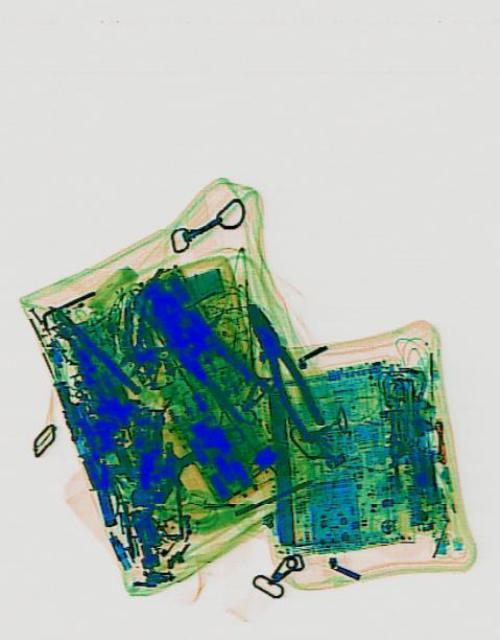Pliers: (131, 265, 265, 423), (233, 294, 325, 440)
